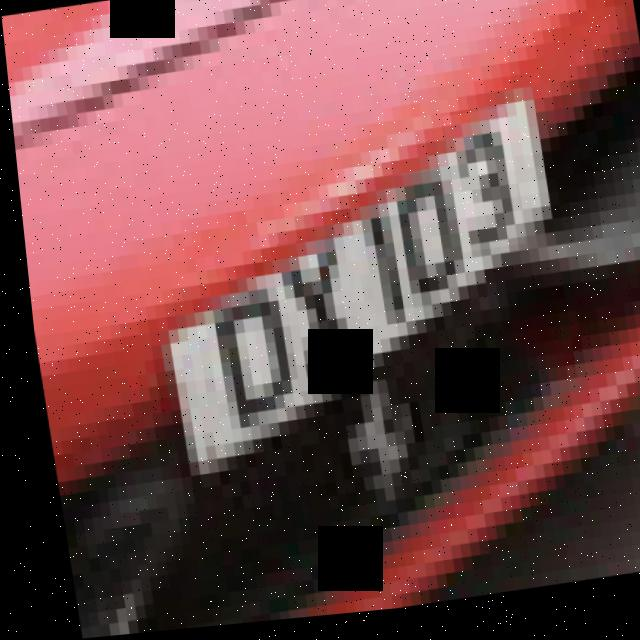0: (389, 176, 464, 317)
1: (346, 188, 407, 348)
3: (438, 116, 519, 262)
D: (192, 272, 298, 445)
X: (270, 239, 363, 402)
